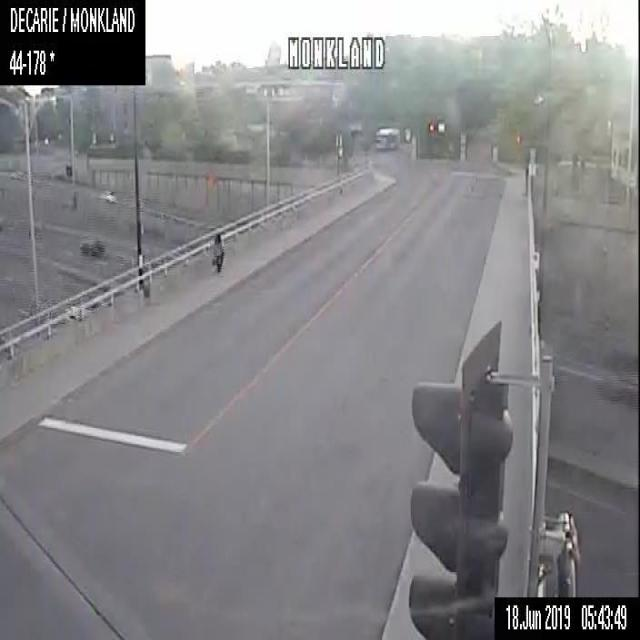bus: (375, 125, 399, 148)
pedestrian: (212, 228, 223, 276)
vehicle: (77, 236, 105, 255), (93, 188, 117, 204)
